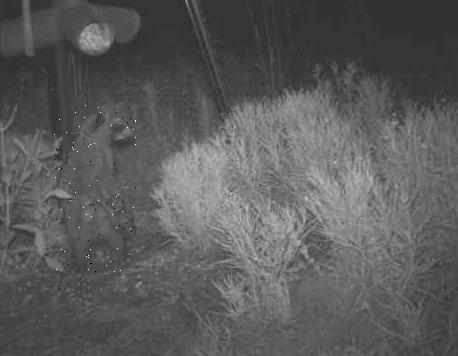Raccoon: (53, 101, 135, 281)
